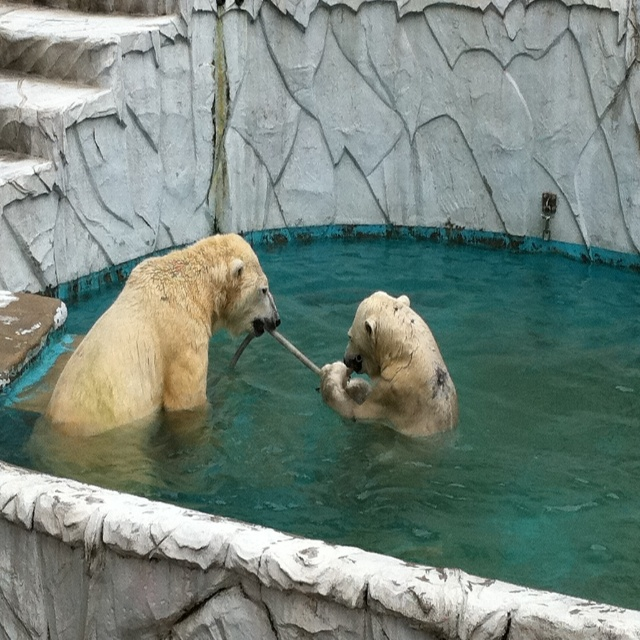Polar bear: (44, 227, 282, 431), (319, 288, 460, 439)
